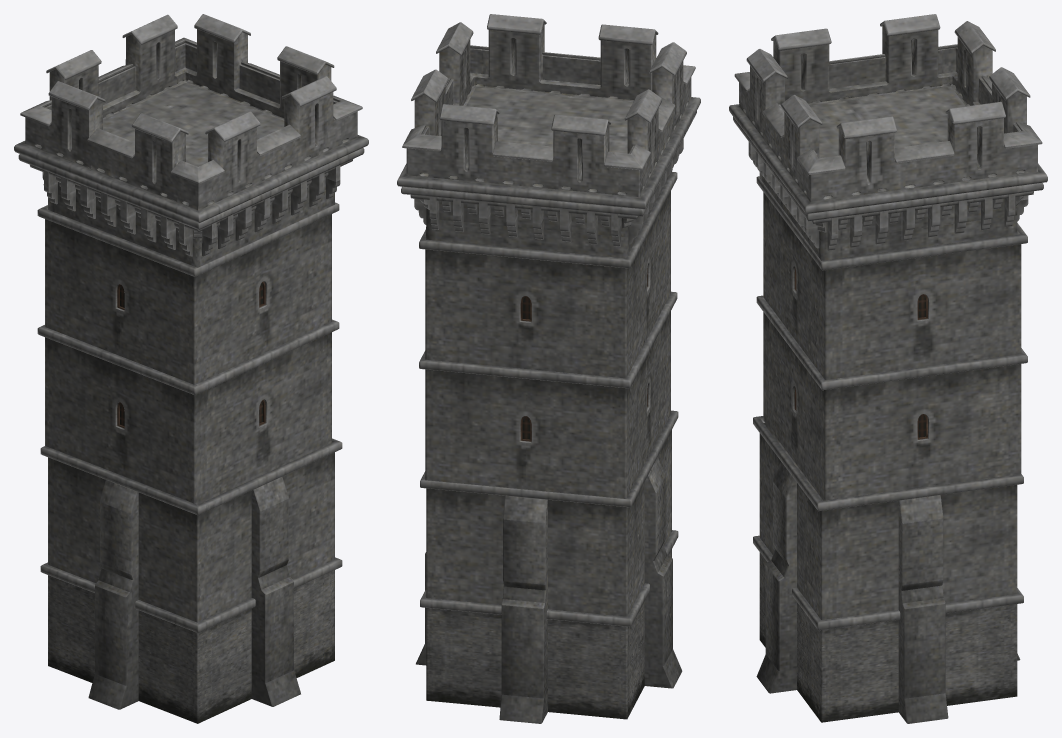
The model's file is Castle_Tower_Square_A1.fbx.
3 renders of one model, left to right at view 1: azimuth 30°, elevation 25°; view 2: azimuth 150°, elevation 25°; view 3: azimuth 270°, elevation 25°, orthographic.
Visible parts, largest first — view 1: Castle_Tower_Square_A.001; view 2: Castle_Tower_Square_A.001; view 3: Castle_Tower_Square_A.001.
Boxes of the visible parts, x1,y1,x2,y2 form: Castle_Tower_Square_A.001: (14,14,368,723); Castle_Tower_Square_A.001: (397,14,700,723); Castle_Tower_Square_A.001: (729,14,1047,723).
Size of the model in its own units: 776 by 1610 by 776.
